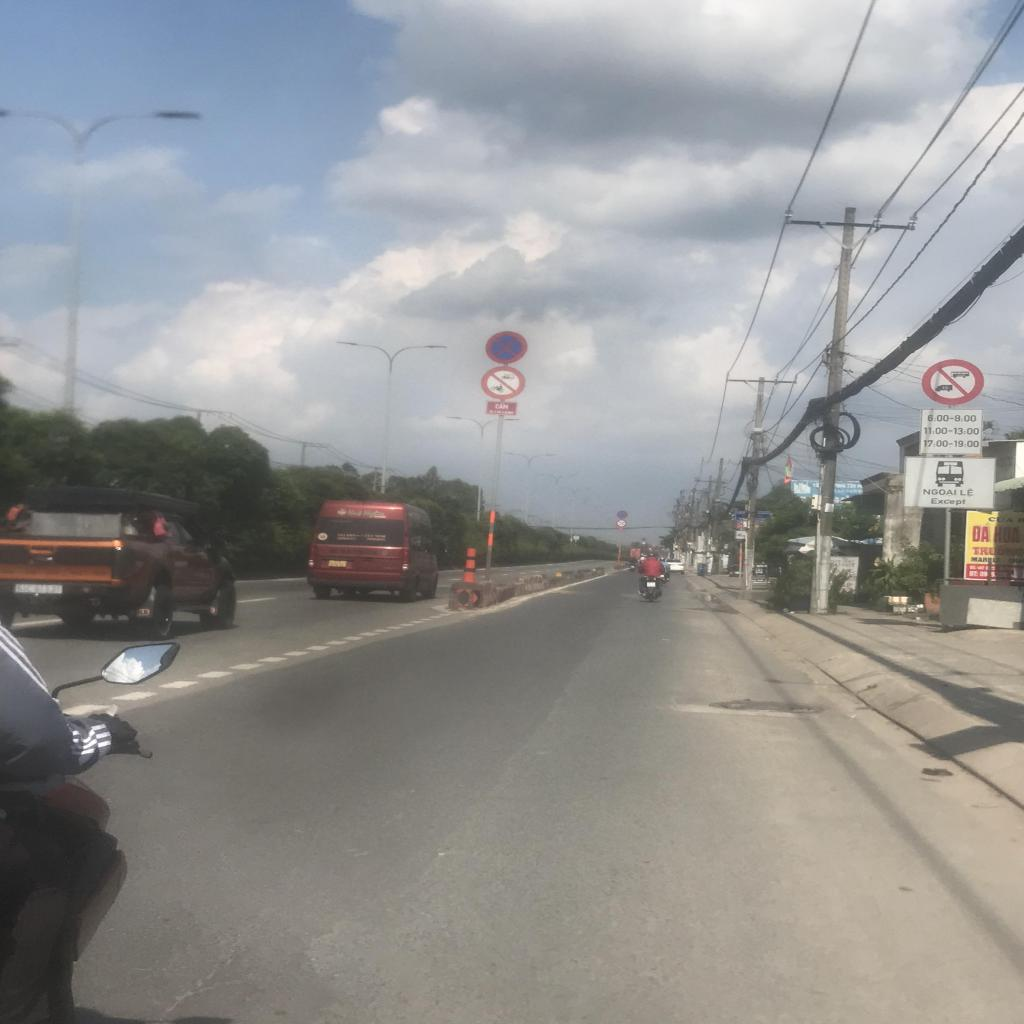cam_dung_xe_va_do_xe: (486, 331, 528, 364), (618, 511, 628, 519)
cam_o_to_tai_va_xe_khach: (922, 359, 984, 404)
cam_xe_2_banh_va_xe_3_banh_co_dong_co: (480, 365, 526, 400), (616, 520, 626, 526)
khac: (903, 457, 996, 508), (918, 409, 984, 454)
